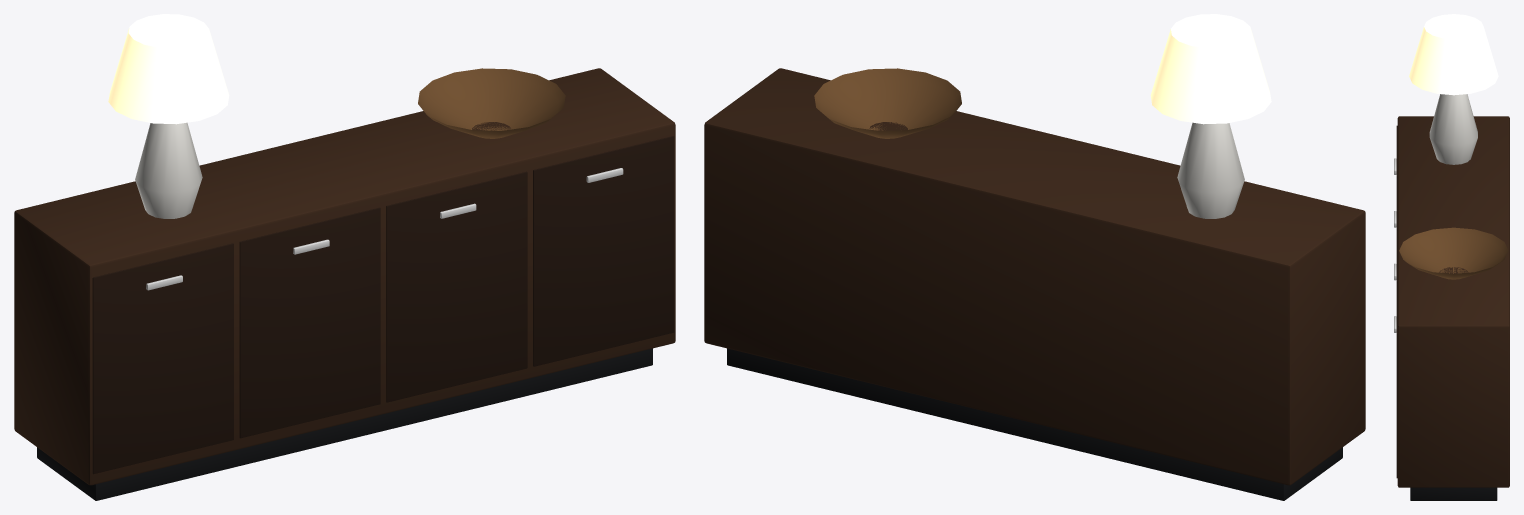
File: marlin_sideboard.glb
The picture shows the model from 3 angles, left to right: view 1: azimuth 30°, elevation 25°; view 2: azimuth 150°, elevation 25°; view 3: azimuth 270°, elevation 25°; orthographic projection. The views are drawn at different scales.
Visible parts, largest first — view 1: marlin_sideboard; view 2: marlin_sideboard; view 3: marlin_sideboard.
Boxes of the visible parts, <box> form: marlin_sideboard: <box>14,14,675,500</box>; marlin_sideboard: <box>704,14,1365,500</box>; marlin_sideboard: <box>1394,14,1509,500</box>.
Size of the model in its own units: 2 by 1.4 by 0.465.
